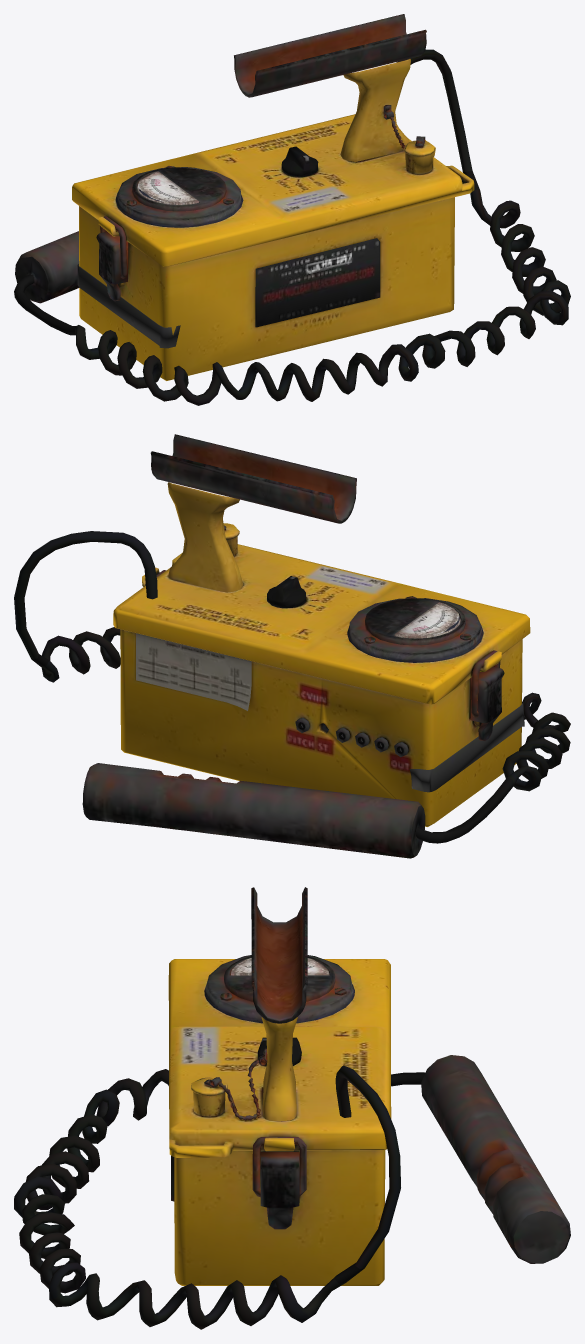
Rendered from geiger_counter.worldmodel.glb.
3 views of the same model, one above another, from view 1: azimuth 30°, elevation 25°; view 2: azimuth 150°, elevation 25°; view 3: azimuth 270°, elevation 25° (orthographic). The views are drawn at different scales.
Parts seen in each view (by area): view 1: w_geigercounter_LOD0; view 2: w_geigercounter_LOD0; view 3: w_geigercounter_LOD0.
Boxes of the visible parts, x1=… form: w_geigercounter_LOD0: x1=14, y1=14, x2=570, y2=405; w_geigercounter_LOD0: x1=14, y1=434, x2=570, y2=858; w_geigercounter_LOD0: x1=14, y1=887, x2=570, y2=1329.
Bounding box in the file's own units: 0.2723 × 0.1515 × 0.2442.
Materials: 1 (1 with a texture image).
